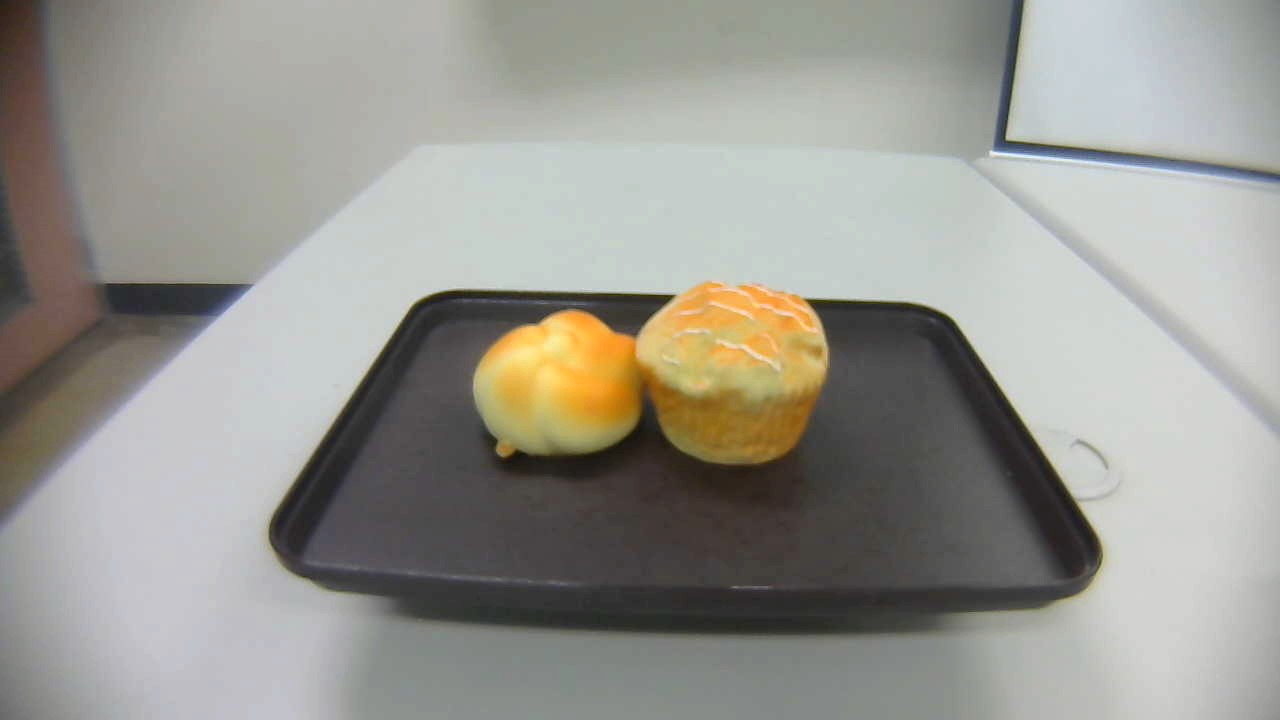cupcake: (638, 285, 832, 462)
twist bread: (471, 304, 648, 457)
